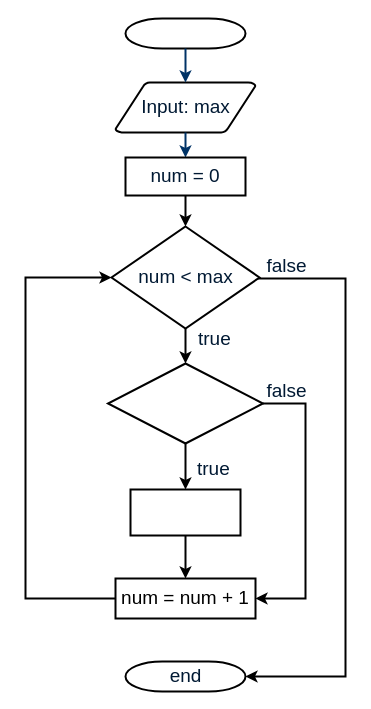
Some shapes in this 371 by 709 pixel diagram are drawn without their labels. The centre of each missing label's shape, as x and y in pixels:
"num is even?" goes at (185,403).
"print num" goes at (185,512).
"start" goes at (185,33).
